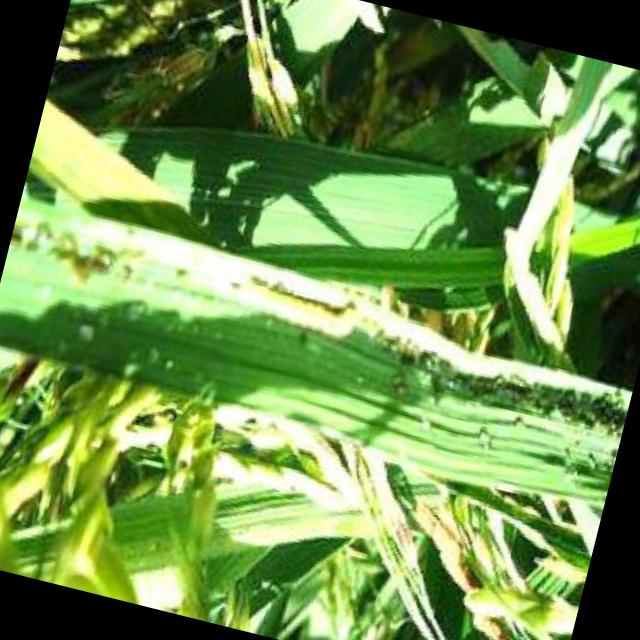leaf-folder: (184, 245, 382, 367)
